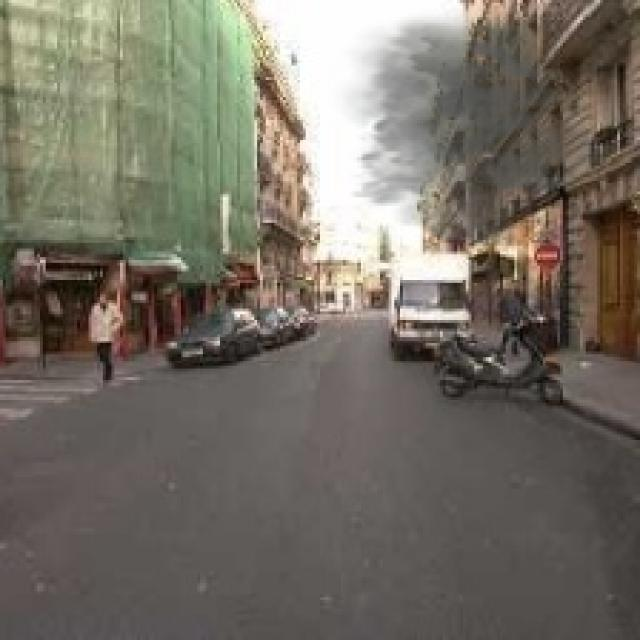smoke: (326, 0, 588, 246)
